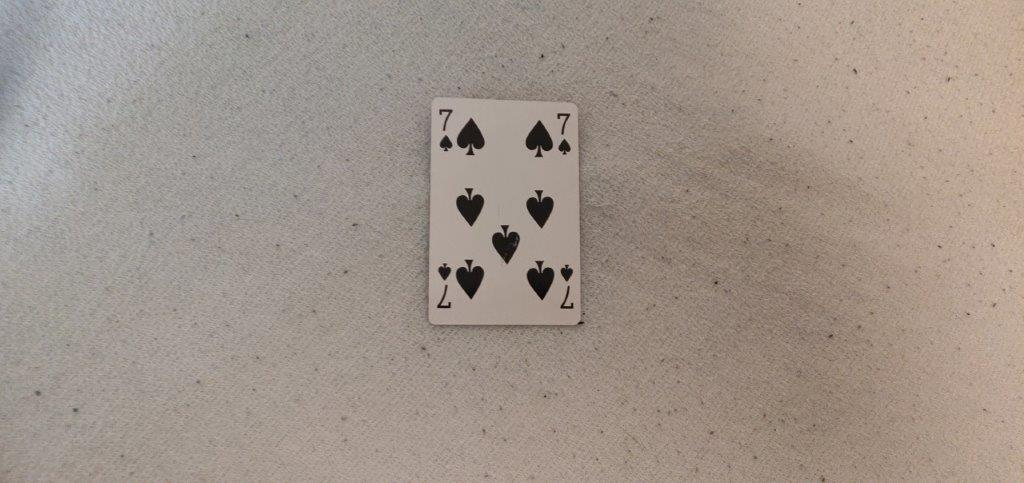7S: (433, 103, 454, 156), (555, 106, 573, 156)
